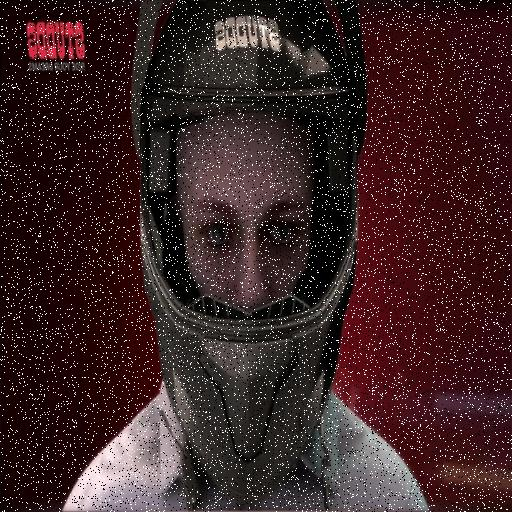Helmet: (116, 1, 377, 499)
